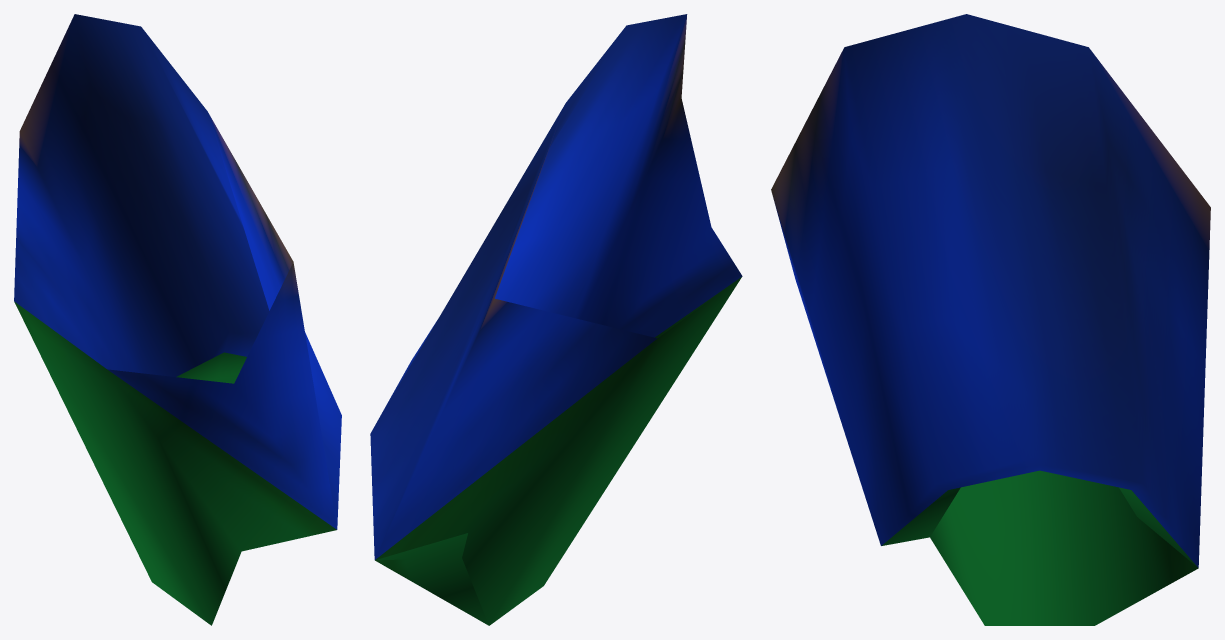
The model's file is batch_0069.obj.
3 views of the same model, side by side, from view 1: azimuth 30°, elevation 25°; view 2: azimuth 150°, elevation 25°; view 3: azimuth 270°, elevation 25° (orthographic). The views are drawn at different scales.
Visible parts, largest first — view 1: batch_0069; view 2: batch_0069; view 3: batch_0069.
Boxes of the visible parts, x1,y1,x2,y2 form: batch_0069: (14,14,341,625); batch_0069: (370,14,742,625); batch_0069: (771,14,1210,625).
Bounding box in the file's own units: 12 × 26 × 18.
Materials: 1 (1 with a texture image).
